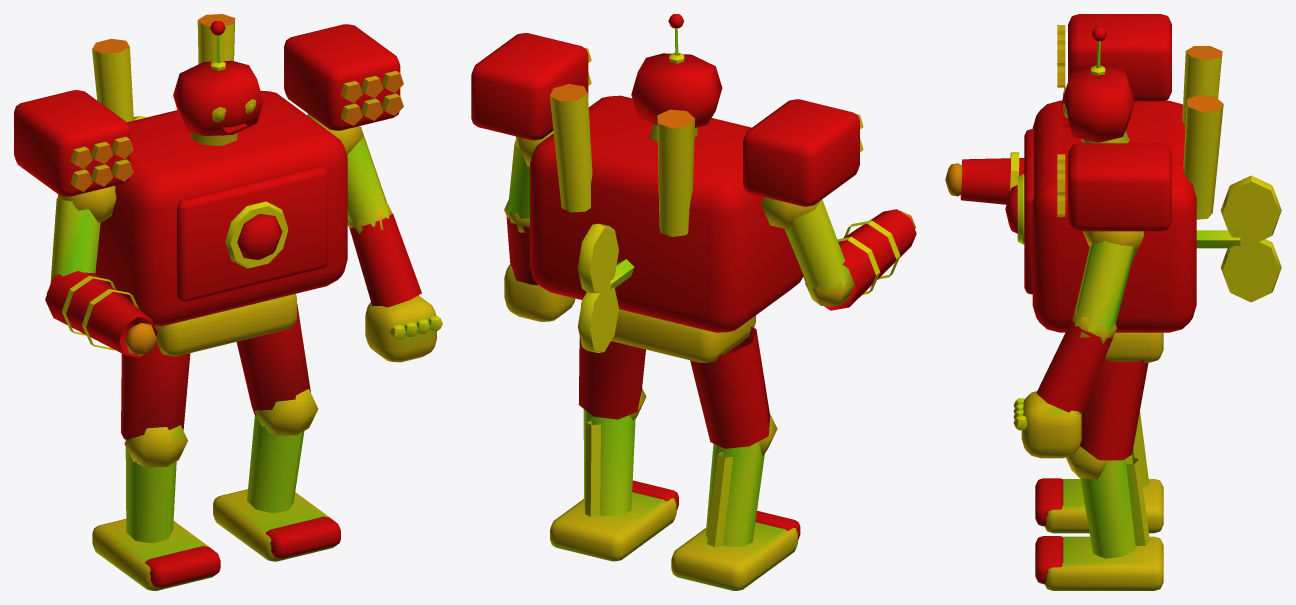
The model's file is Colossus_LOD1.glb.
The picture shows the model from 3 angles, left to right: view 1: azimuth 30°, elevation 25°; view 2: azimuth 150°, elevation 25°; view 3: azimuth 270°, elevation 25°; orthographic projection. The views are drawn at different scales.
Visible parts, largest first — view 1: Colossus_LOD1; view 2: Colossus_LOD1; view 3: Colossus_LOD1.
Boxes of the visible parts, x1,y1,x2,y2 form: Colossus_LOD1: (14,14,442,590); Colossus_LOD1: (471,14,916,590); Colossus_LOD1: (945,14,1281,590).
Bounding box in the file's own units: 4.68 × 6.53 × 3.82.
